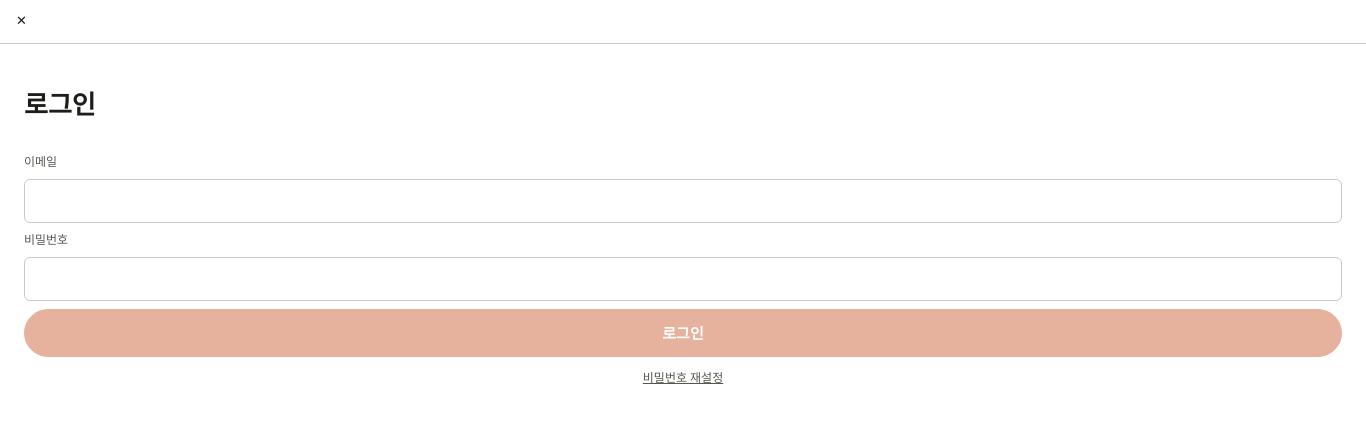
Test: LoginPage (A1) › 429 ACCOUNT_LOCKED면 서버 message를 보인다
Type "a@b.c" into the field labelled "이메일" at {"x": 683, "y": 201}, box top-left (24, 179), bottom-right (1342, 223)
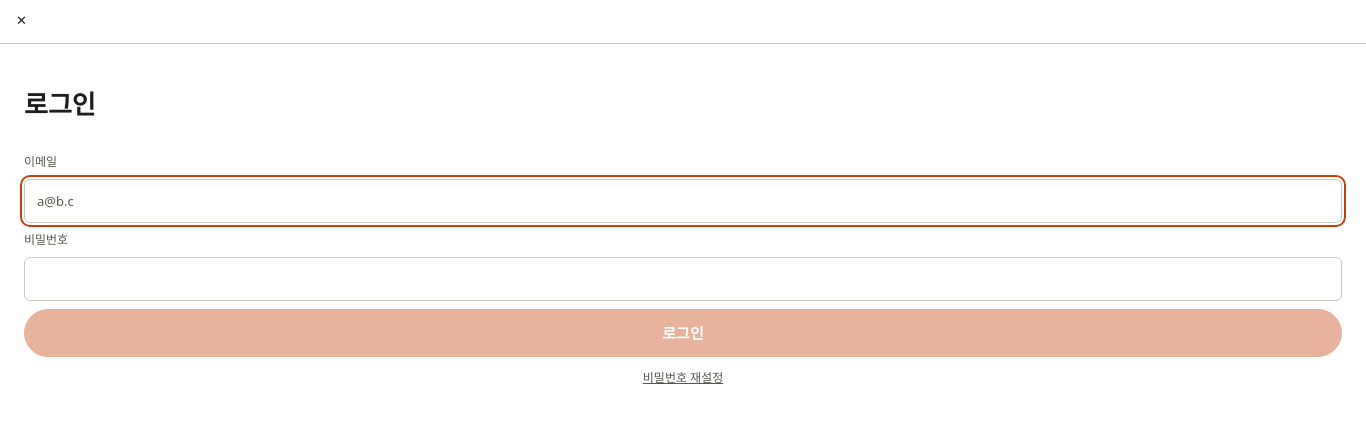
Type "pw" into the password field labelled "비밀번호" at {"x": 683, "y": 279}, box top-left (24, 257), bottom-right (1342, 301)
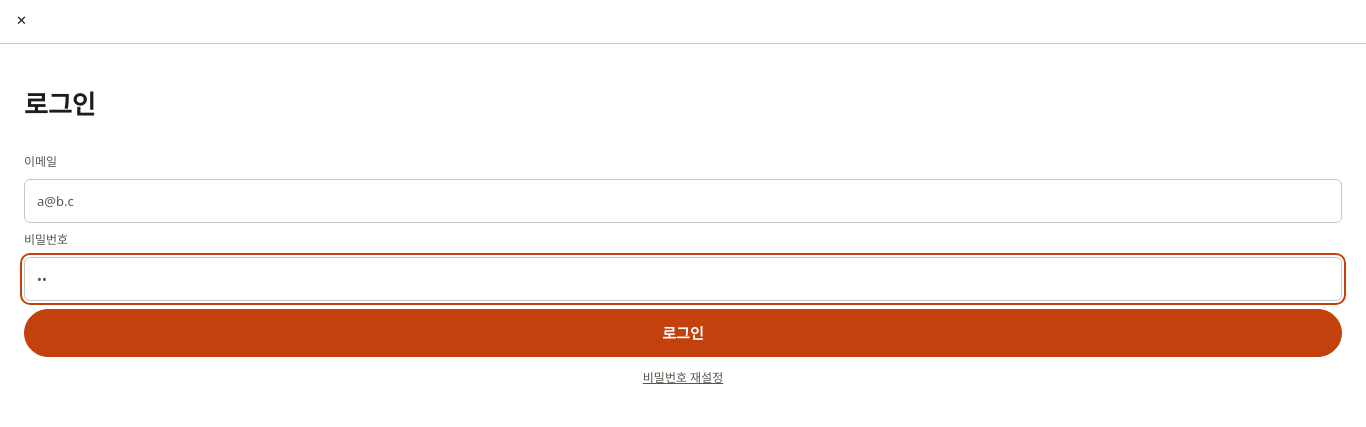
Click the button "로그인" at {"x": 683, "y": 333}, box top-left (24, 309), bottom-right (1342, 357)
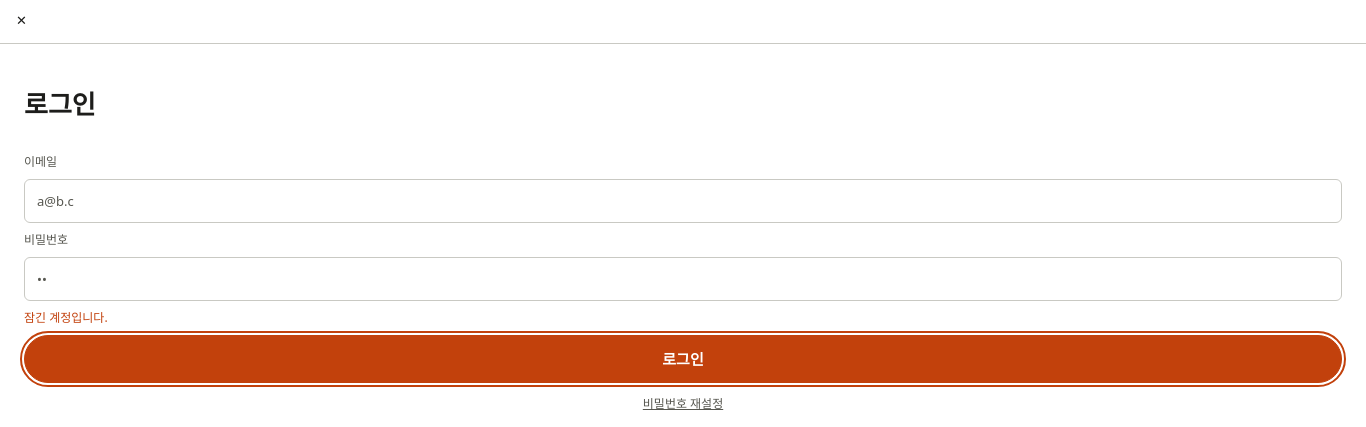
Check: the message reads "잠긴 계정입니다.", box top-left (24, 309), bottom-right (108, 326)
